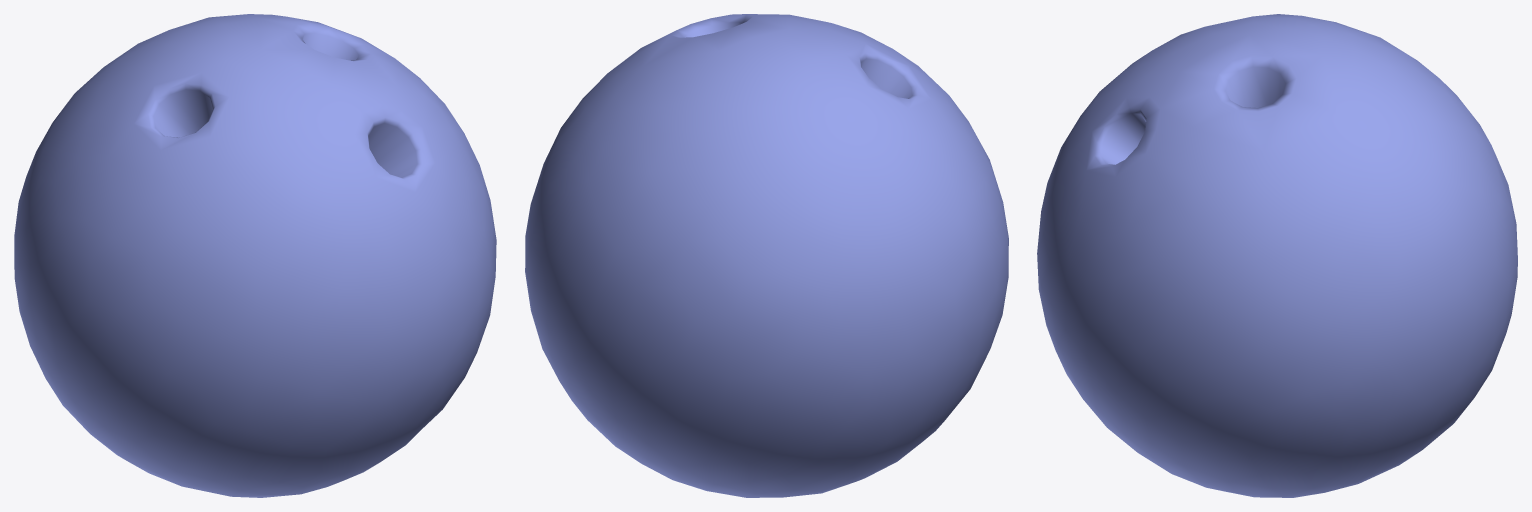
The model's file is SM_Bowling_Ball.fbx.
3 renders of one model, left to right at view 1: azimuth 30°, elevation 25°; view 2: azimuth 150°, elevation 25°; view 3: azimuth 270°, elevation 25°, orthographic.
Parts seen in each view (by area): view 1: BowlingBall; view 2: BowlingBall; view 3: BowlingBall.
Boxes of the visible parts, x1,y1,x2,y2 form: BowlingBall: (14,14,496,497); BowlingBall: (525,14,1008,497); BowlingBall: (1037,14,1517,497).
Size of the model in its own units: 21.39 by 21.44 by 21.34.
